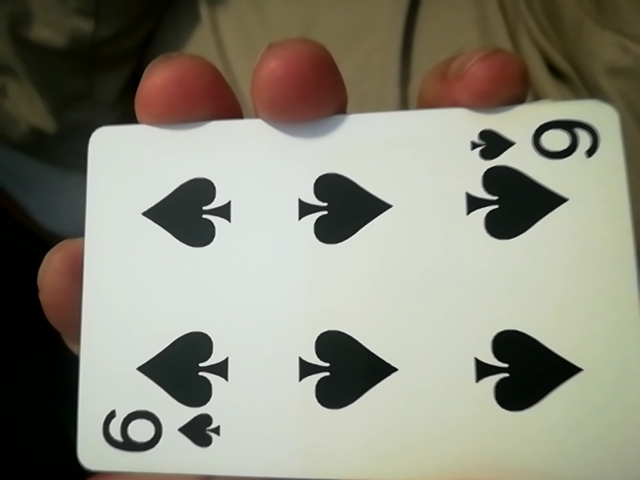ht 6: (55, 106, 633, 480)
